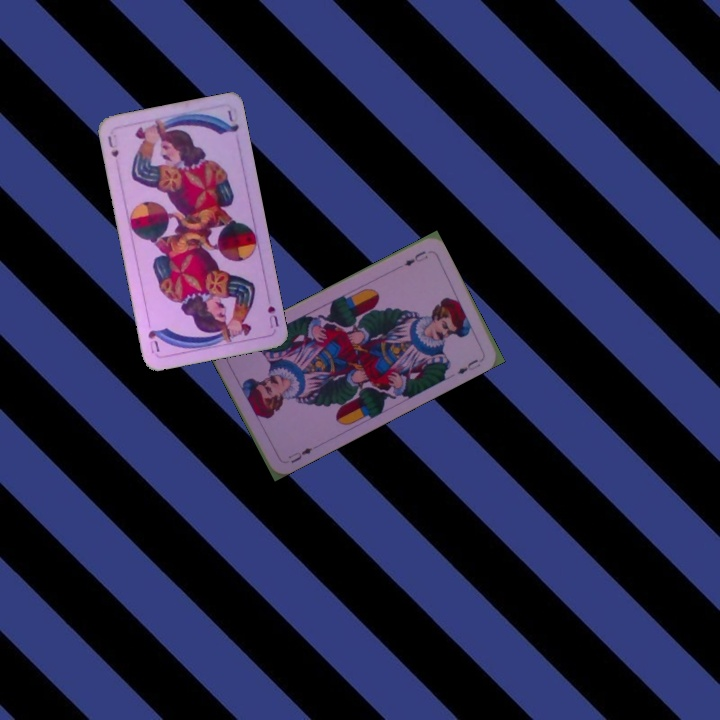EU: (284, 443, 315, 466), (400, 246, 431, 269)
SU: (103, 130, 121, 161), (263, 302, 281, 330)
